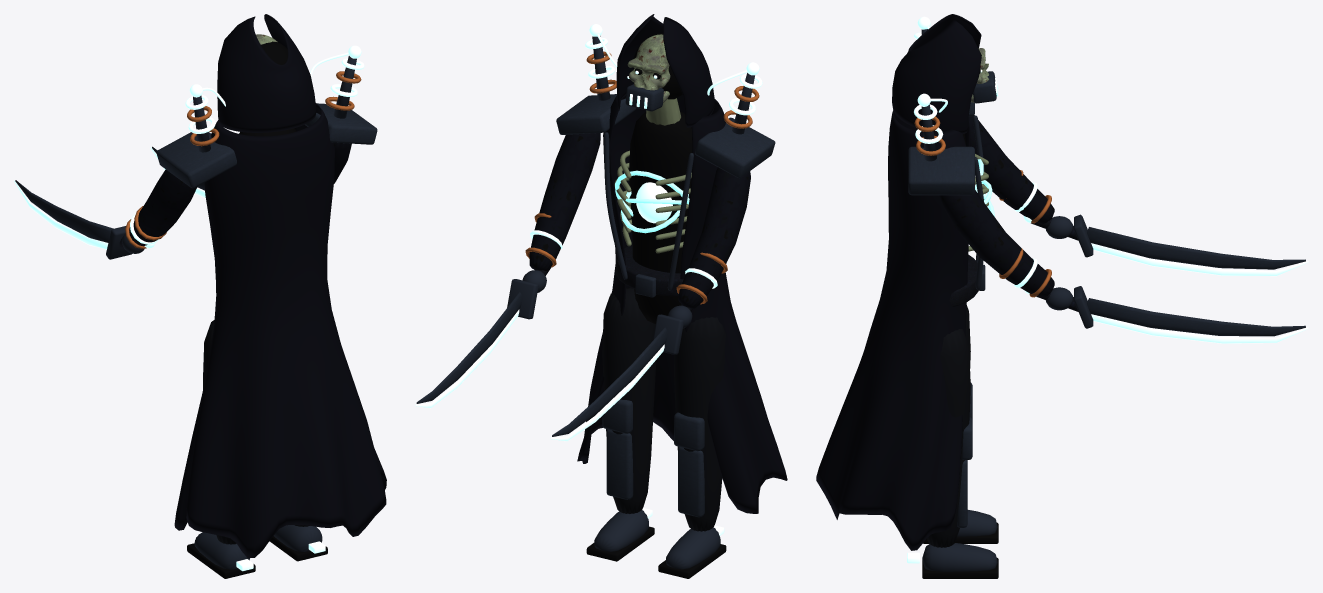
The model's file is boss_phantom.glb.
3 views of the same model, side by side, from view 1: azimuth 30°, elevation 25°; view 2: azimuth 150°, elevation 25°; view 3: azimuth 270°, elevation 25° (orthographic).
Visible parts, largest first — view 1: Torso_Geo, Head_Geo, ArmL_Geo, LegL_Geo, LegR_Geo, ArmR_Geo; view 2: Torso_Geo, LegR_Geo, LegL_Geo, ArmL_Geo, ArmR_Geo, Head_Geo; view 3: Torso_Geo, ArmR_Geo, ArmL_Geo, Head_Geo, LegR_Geo, LegL_Geo.
Boxes of the visible parts, left/top/right/bottom form: Torso_Geo: left=156, top=45, right=386, bottom=558; Head_Geo: left=217, top=14, right=316, bottom=132; ArmL_Geo: left=14, top=169, right=197, bottom=259; LegL_Geo: left=187, top=320, right=255, bottom=578; LegR_Geo: left=269, top=525, right=327, bottom=561; ArmR_Geo: left=150, top=142, right=351, bottom=198; Torso_Geo: left=556, top=24, right=787, bottom=513; LegR_Geo: left=586, top=287, right=656, bottom=561; LegL_Geo: left=658, top=317, right=726, bottom=578; ArmL_Geo: left=550, top=167, right=750, bottom=441; ArmR_Geo: left=415, top=133, right=600, bottom=408; Head_Geo: left=616, top=14, right=714, bottom=127; Torso_Geo: left=816, top=16, right=994, bottom=550; ArmR_Geo: left=939, top=190, right=1308, bottom=343; ArmL_Geo: left=968, top=115, right=1308, bottom=276; Head_Geo: left=892, top=14, right=998, bottom=133; LegR_Geo: left=907, top=329, right=998, bottom=578; LegL_Geo: left=923, top=305, right=998, bottom=543.
Size of the model in its own units: 0.8623 by 2.22 by 1.84.
Materials: 9 (4 with a texture image).
